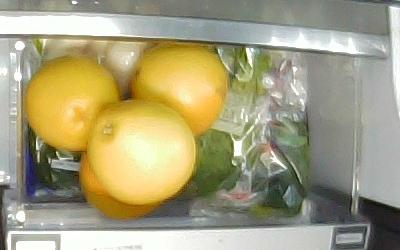grapefruit: (86, 100, 196, 203), (129, 40, 227, 141), (26, 57, 120, 148)
